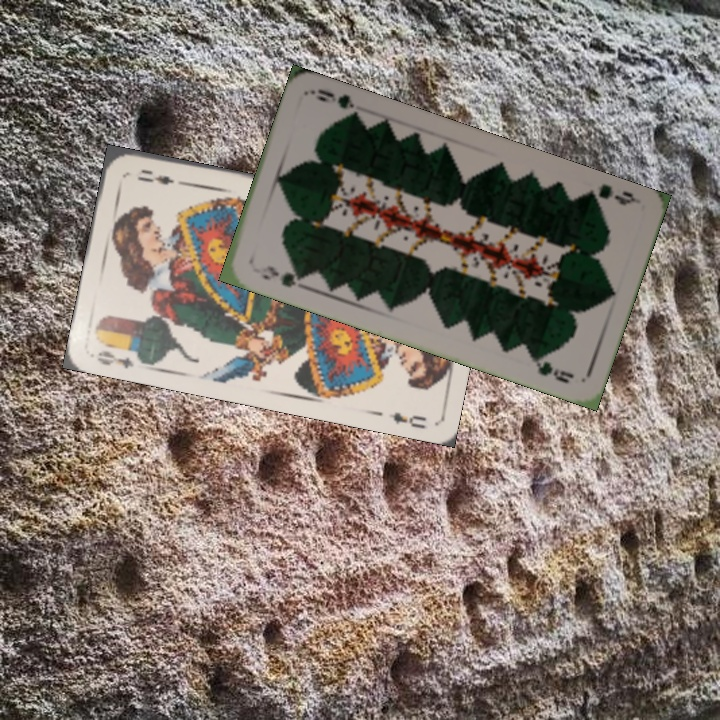EO: (93, 346, 136, 372)
G9: (581, 180, 642, 208), (256, 261, 307, 291)
